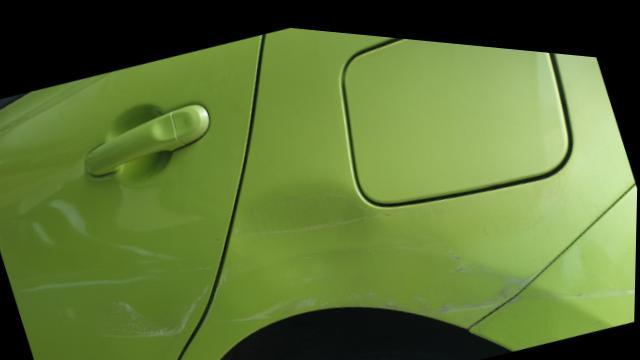dent: (239, 172, 374, 287)
scratch: (434, 239, 546, 312), (504, 267, 636, 297)
